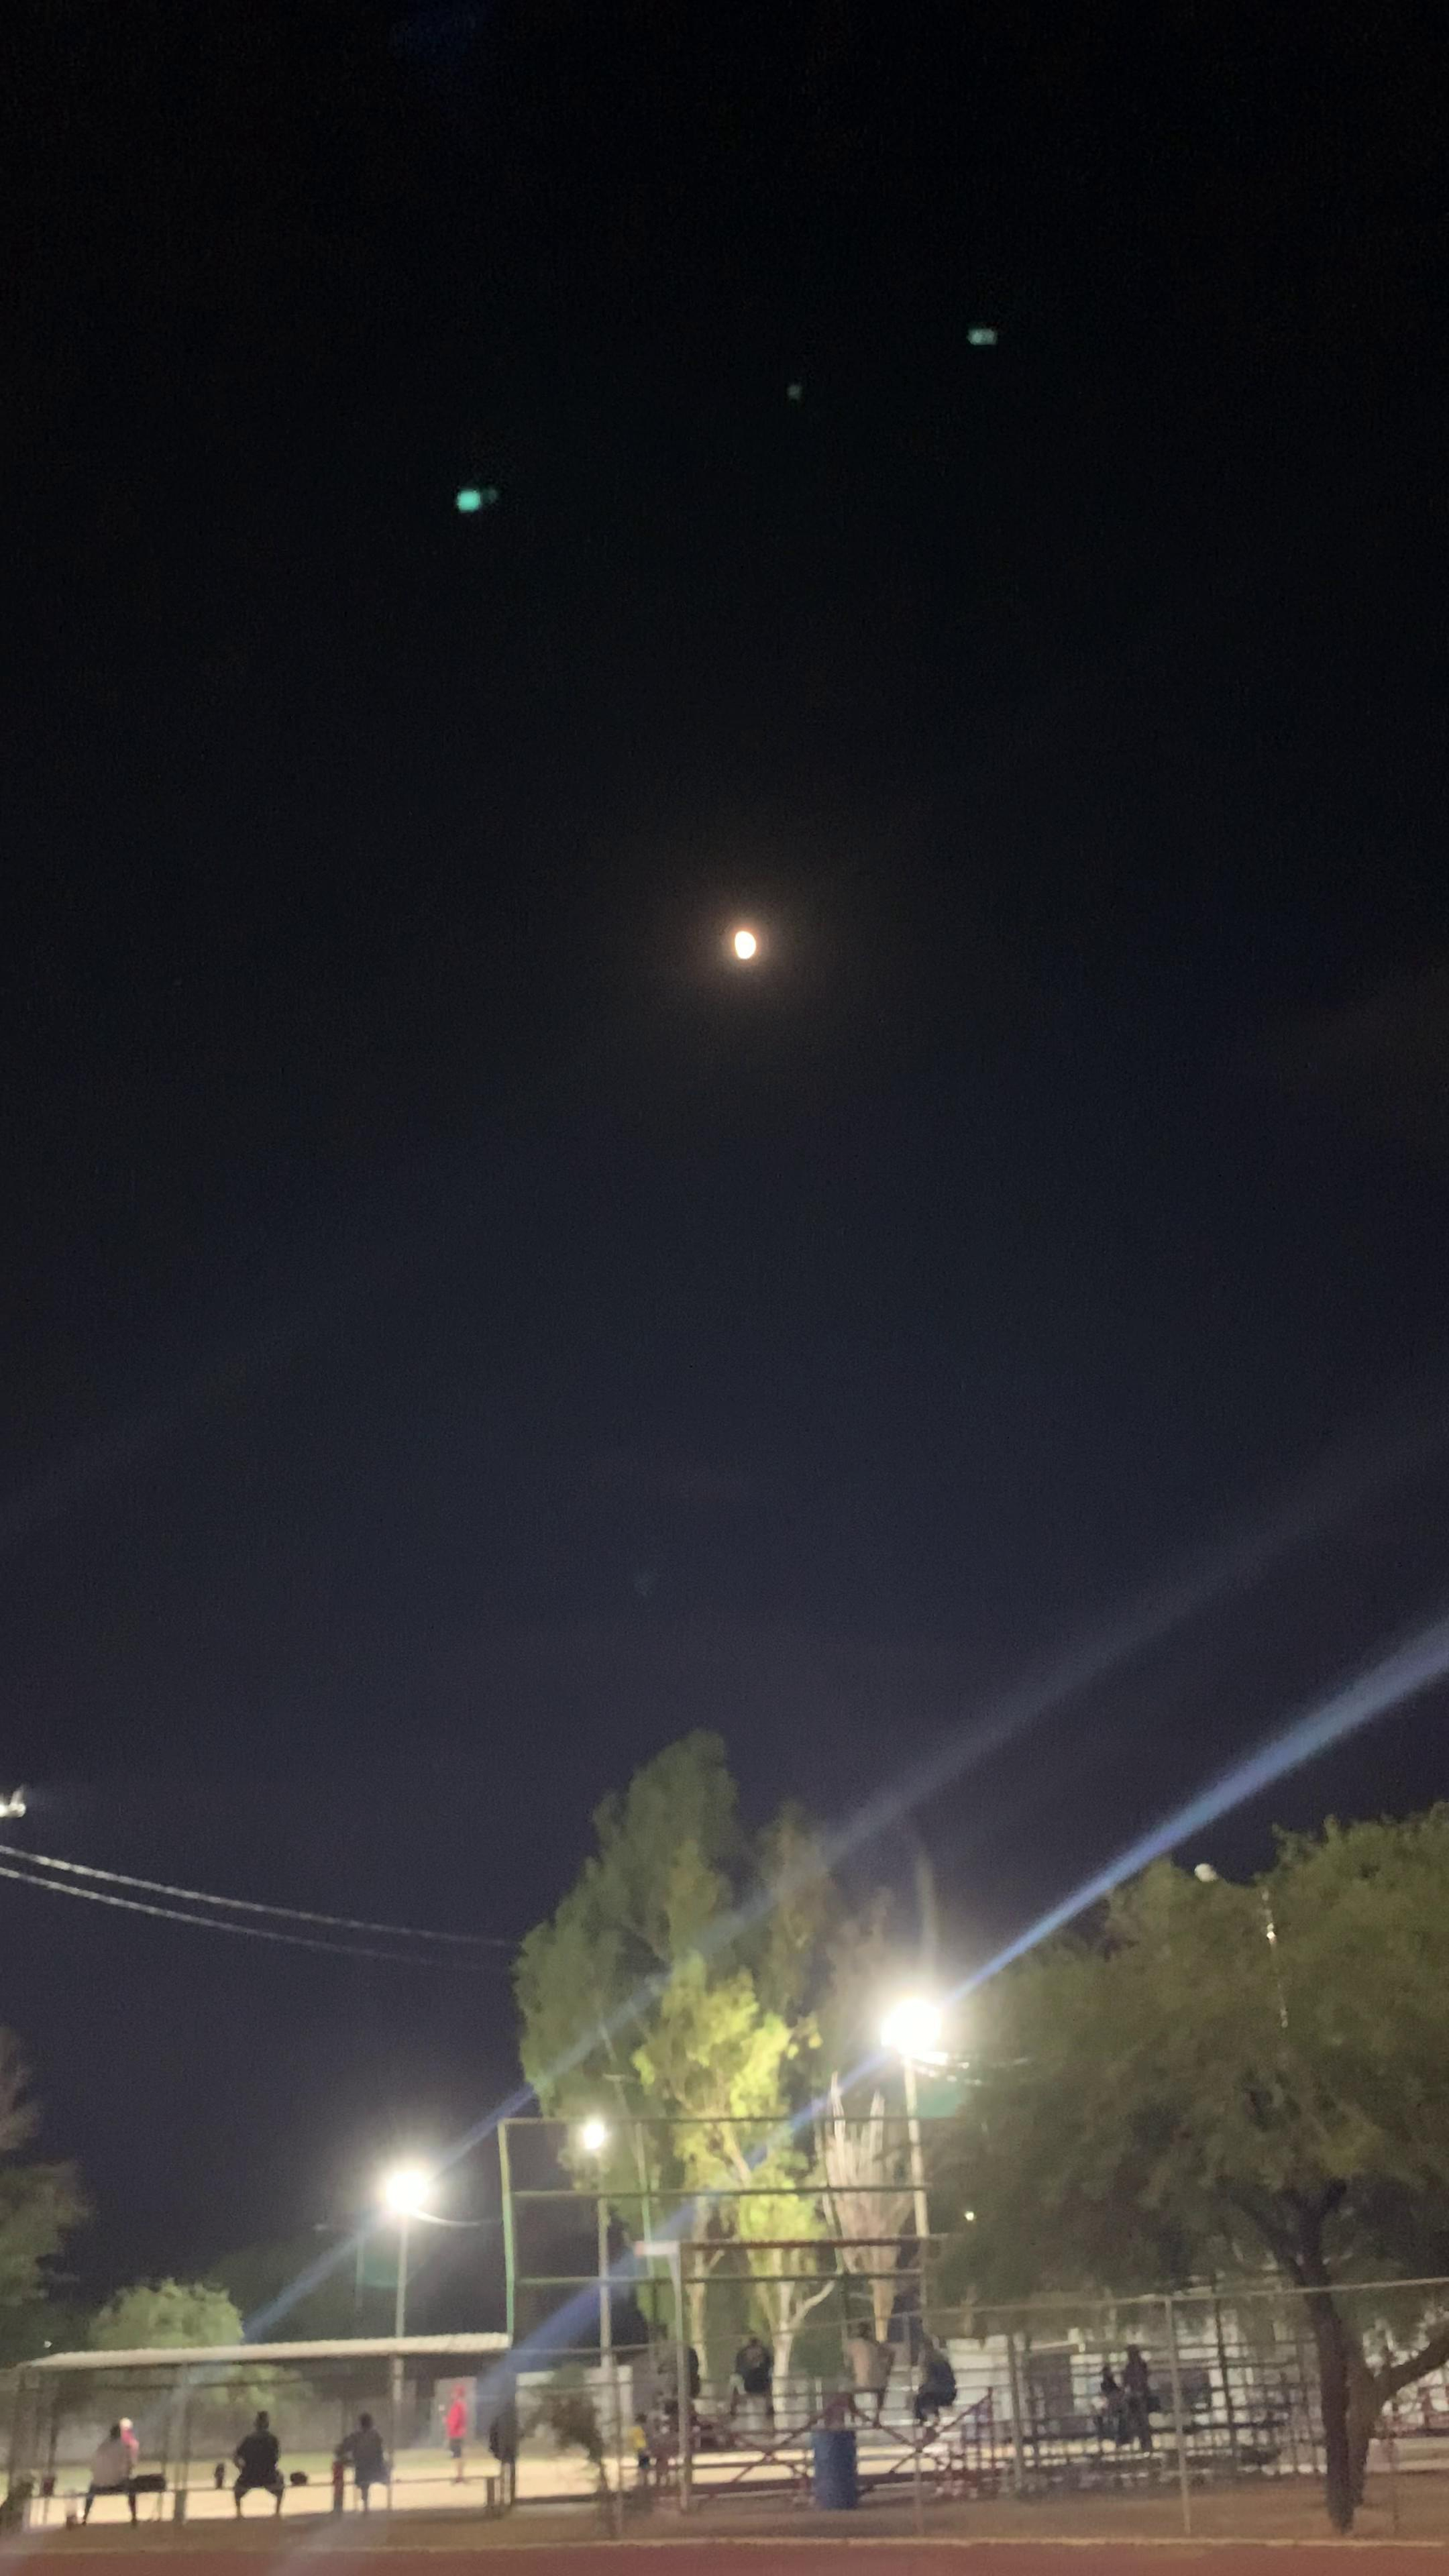moon: (692, 862, 819, 975)
